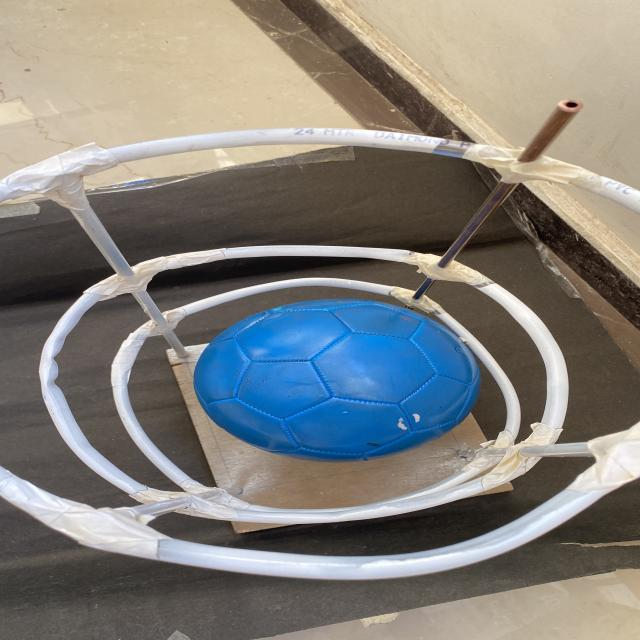blue_ball: (192, 302, 492, 456)
silo: (6, 122, 640, 586)
